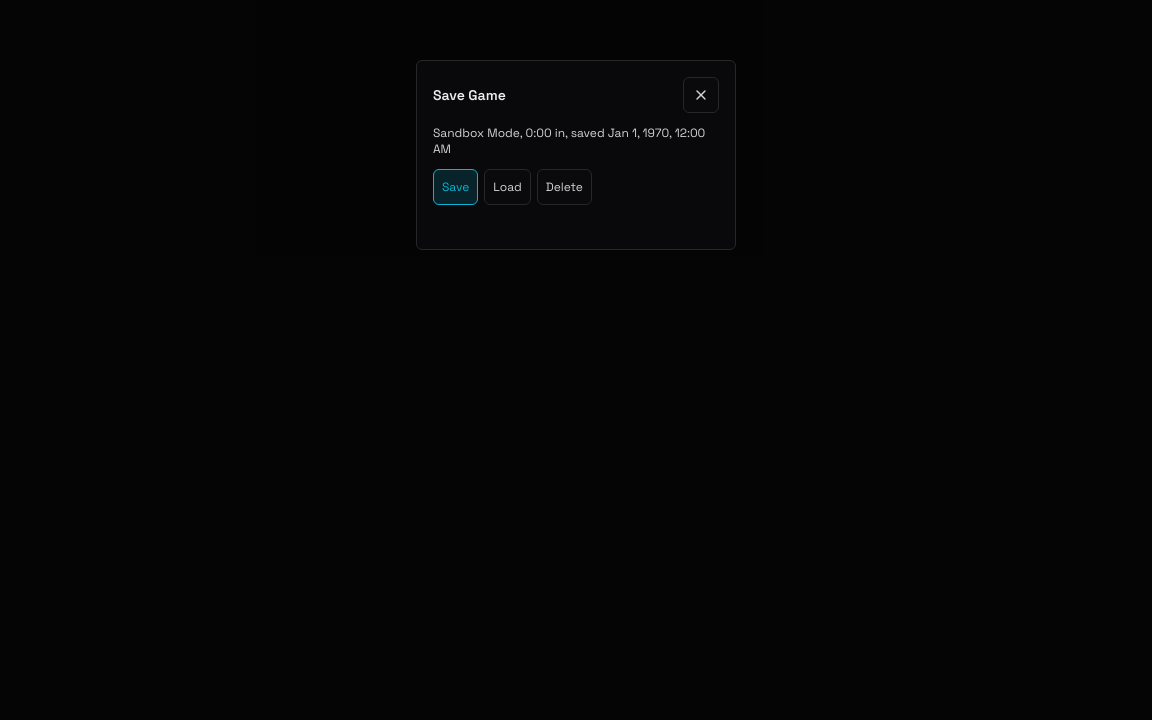
Test: SaveMenu › refuses a save the replay refuses, and leaves the run alone
Expected: the button "Save" is enabled, [433,169,478,205]
Click the button "Load" at (508, 187), box [484,169,531,205]
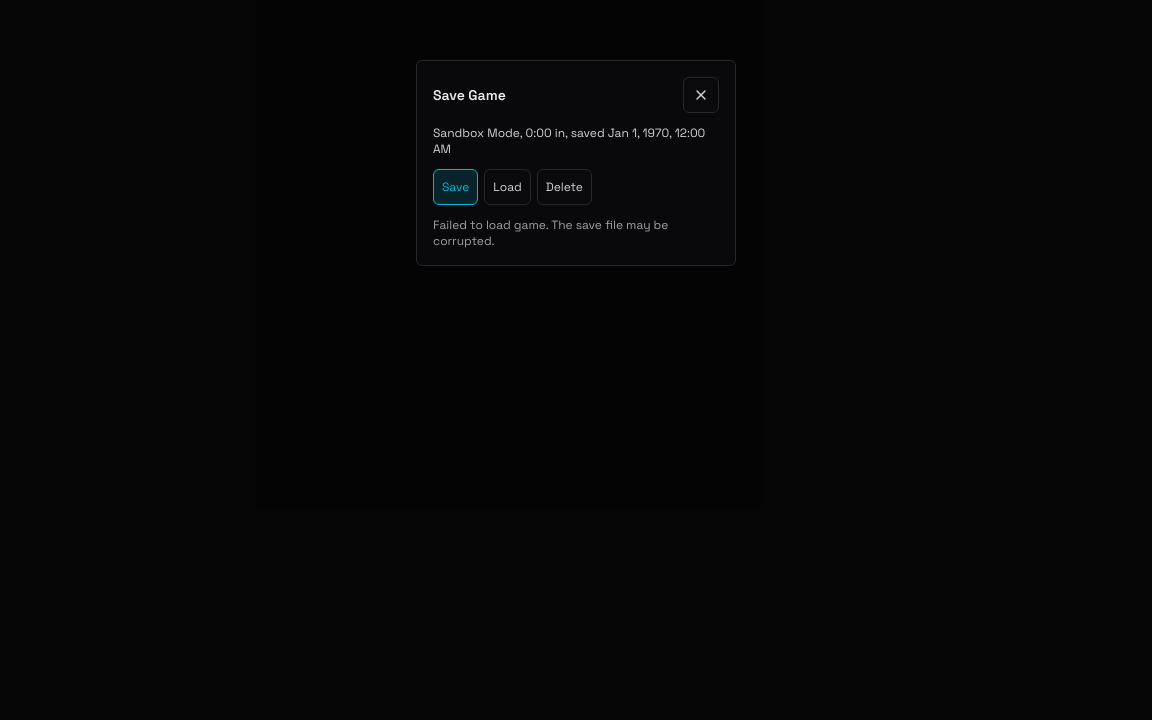
Expected: the message reads "Failed to load game. The save file may be corrupted.", [433,217,668,249]
